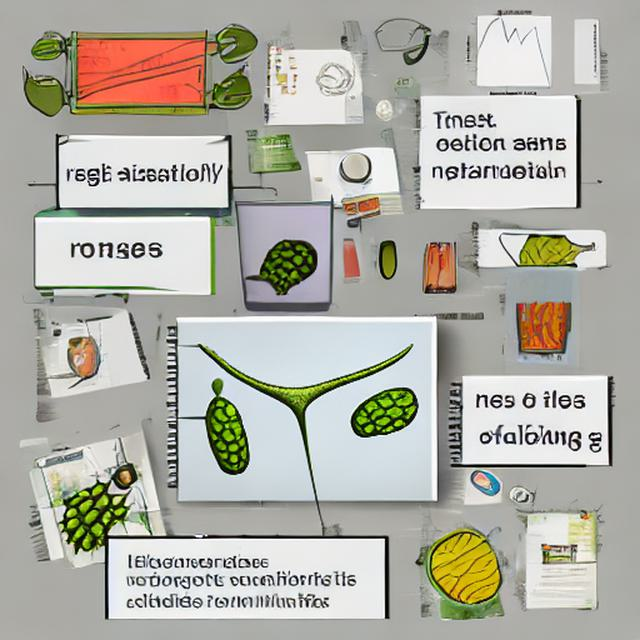Graph: (452, 4, 574, 96)
